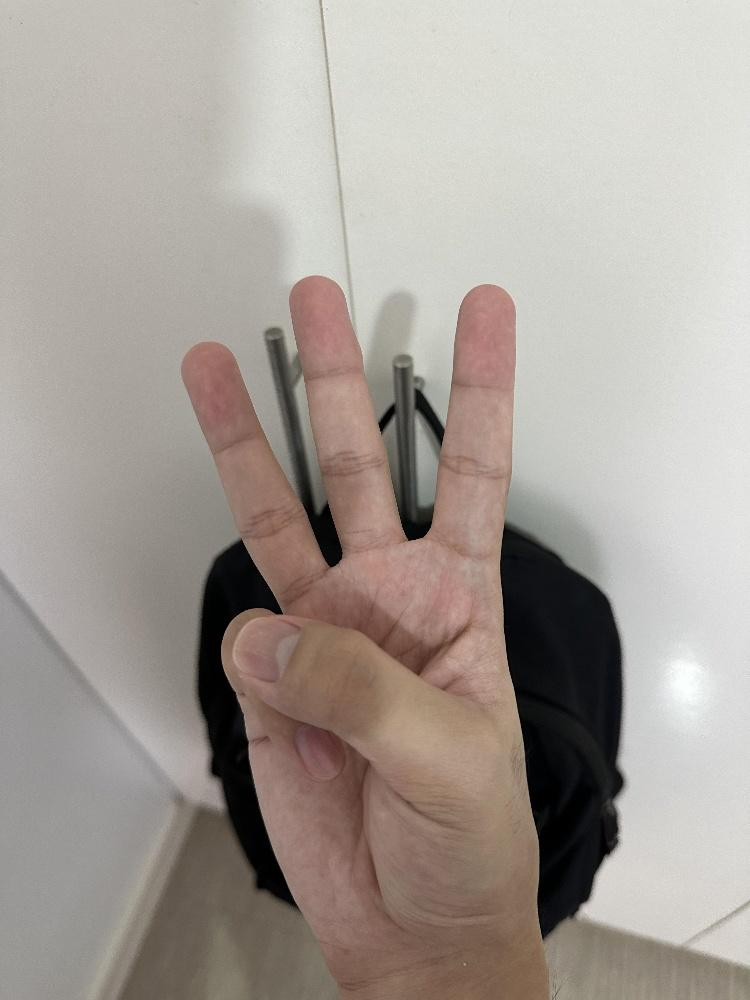w: (177, 270, 542, 973)
